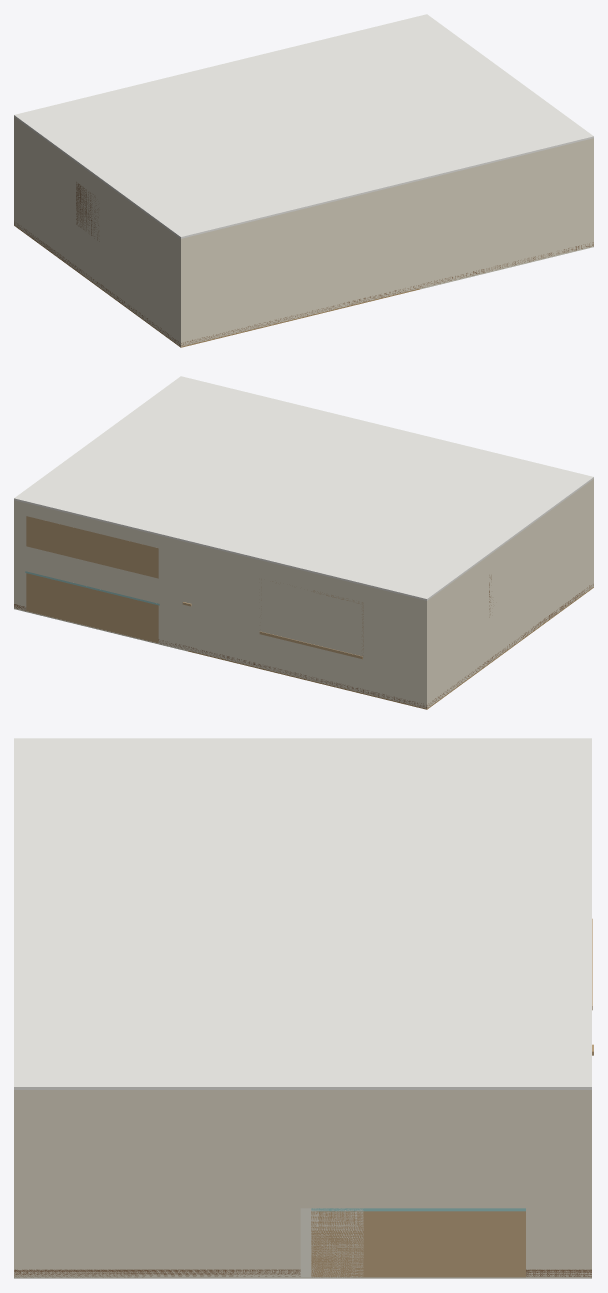
Rendered from armstrong-house.glb.
The picture shows the model from 3 angles, top to bottom: view 1: azimuth 30°, elevation 25°; view 2: azimuth 150°, elevation 25°; view 3: azimuth 270°, elevation 25°; orthographic projection. The views are drawn at different scales.
Visible parts, largest first — view 1: room-shell-geo, floor-geo; view 2: room-shell-geo, kitchen-geo, floor-geo; view 3: room-shell-geo, kitchen-geo, floor-geo.
Part boxes in pixels (<box>): room-shell-geo: <box>14,14,593,346</box>; floor-geo: <box>14,225,593,347</box>; room-shell-geo: <box>14,376,593,708</box>; kitchen-geo: <box>25,516,159,643</box>; floor-geo: <box>14,587,593,709</box>; room-shell-geo: <box>14,738,593,1277</box>; kitchen-geo: <box>300,1208,525,1277</box>; floor-geo: <box>14,1277,591,1278</box>.
Bounding box in the file's own units: 10 × 2.56 × 7.03.
